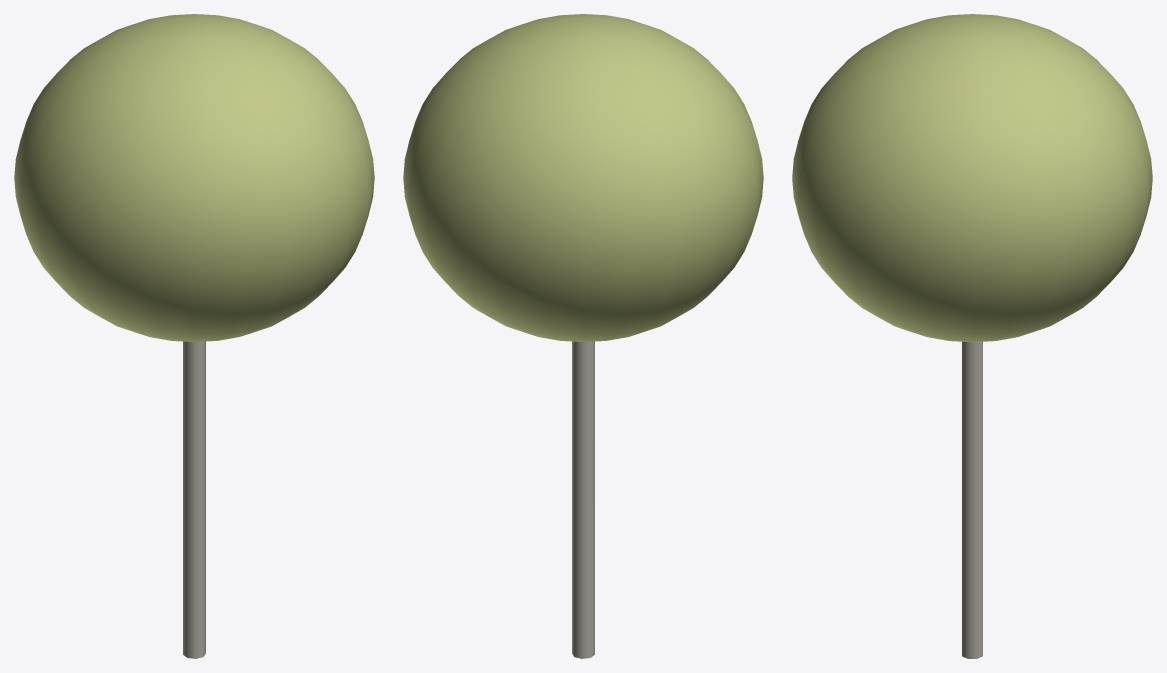
Rendered from CocosNucifera.glb.
3 views of the same model, side by side, from view 1: azimuth 30°, elevation 25°; view 2: azimuth 150°, elevation 25°; view 3: azimuth 270°, elevation 25° (orthographic).
Visible parts, largest first — view 1: Coconut_Palm__Schematic_LOD3; view 2: Coconut_Palm__Schematic_LOD3; view 3: Coconut_Palm__Schematic_LOD3.
Part boxes in pixels (left/top/right/bottom): Coconut_Palm__Schematic_LOD3: left=14, top=14, right=374, bottom=658; Coconut_Palm__Schematic_LOD3: left=403, top=14, right=763, bottom=658; Coconut_Palm__Schematic_LOD3: left=792, top=14, right=1152, bottom=658.
Bounding box in the file's own units: 11.64 × 22.15 × 11.64.
